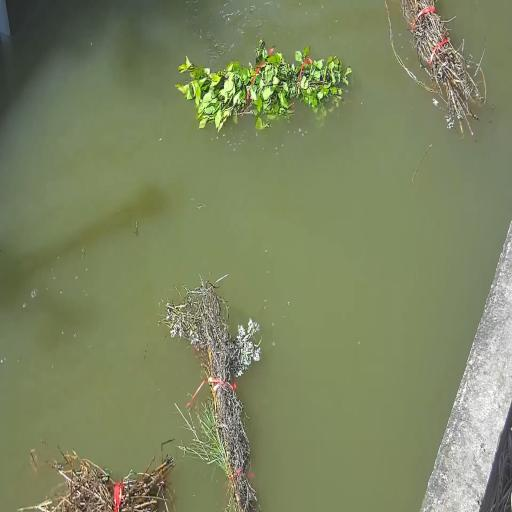twig: (176, 40, 352, 131), (404, 0, 485, 134), (19, 453, 174, 512), (192, 375, 255, 512), (170, 282, 259, 359)
